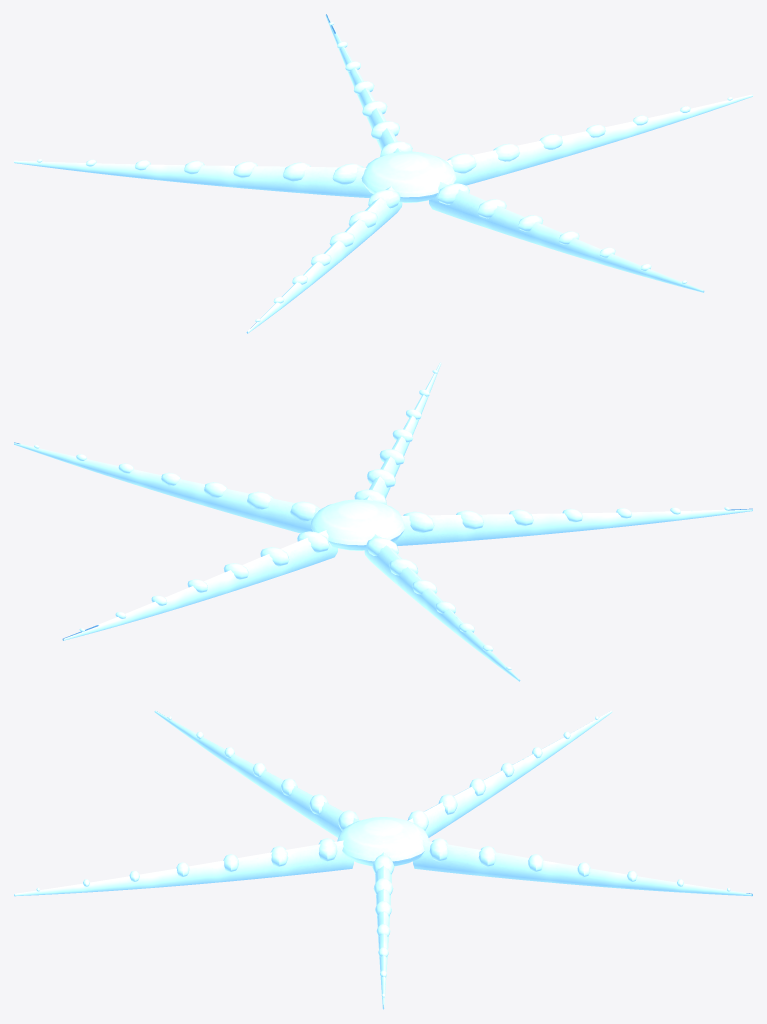
Rendered from ophiura_sarsii.glb.
3 renders of one model, top to bottom at view 1: azimuth 30°, elevation 25°; view 2: azimuth 150°, elevation 25°; view 3: azimuth 270°, elevation 25°, orthographic. The views are drawn at different scales.
Visible parts, largest first — view 1: ophiura_sarsii; view 2: ophiura_sarsii; view 3: ophiura_sarsii.
Part boxes in pixels (<box>): ophiura_sarsii: <box>14,14,752,333</box>; ophiura_sarsii: <box>14,362,752,681</box>; ophiura_sarsii: <box>14,710,752,1009</box>.
Size of the model in its own units: 0.8721 by 0.0532 by 0.9169.
Materials: 1 (1 with a texture image).
